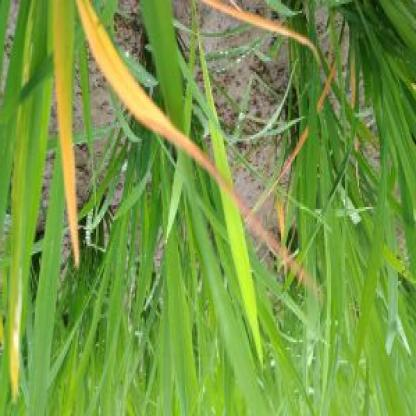Tungro: (48, 6, 87, 273)
